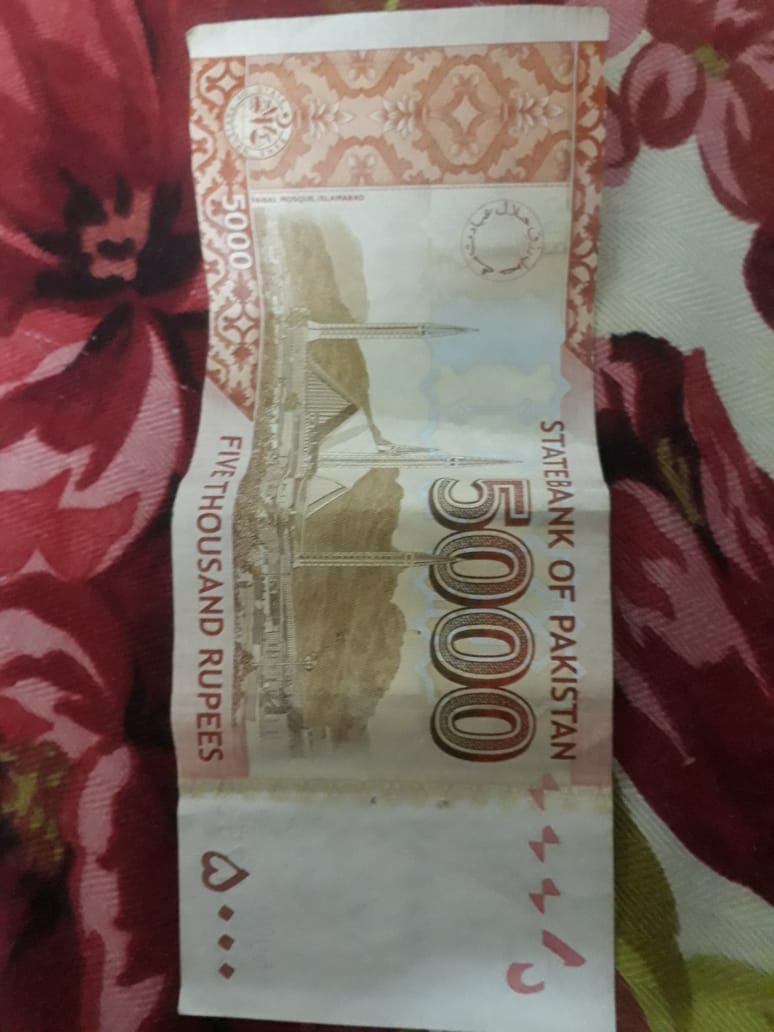5000 rupee: (156, 9, 646, 1032)
